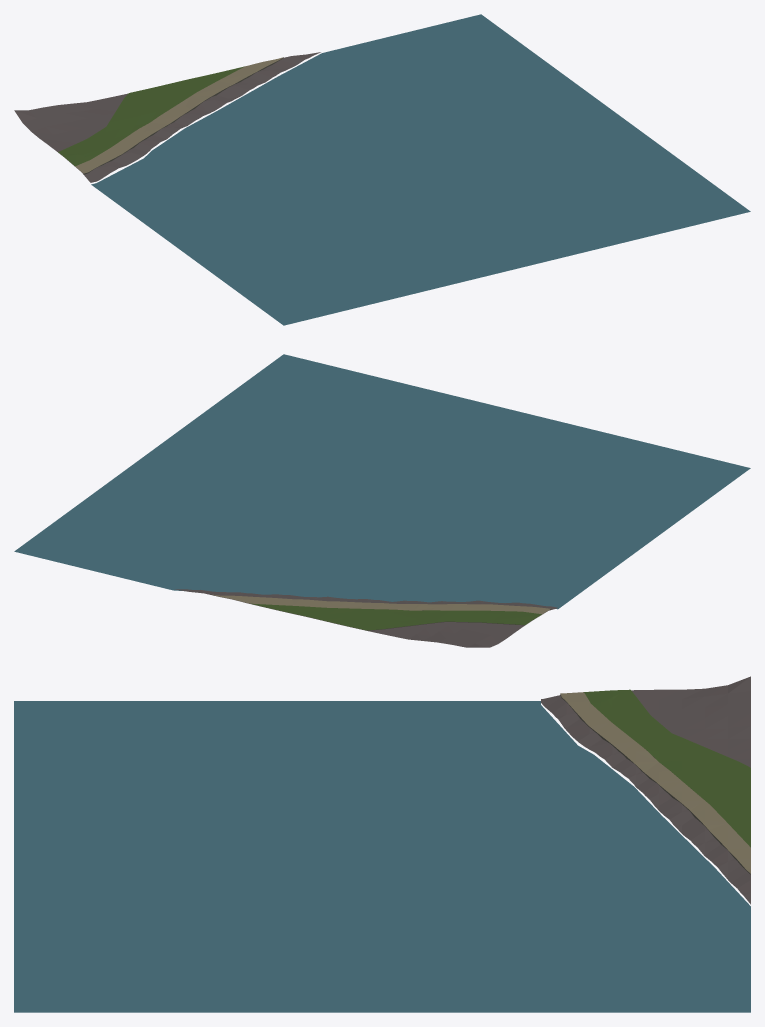
The picture shows the model from 3 angles, top to bottom: view 1: azimuth 30°, elevation 25°; view 2: azimuth 150°, elevation 25°; view 3: azimuth 270°, elevation 25°; orthographic projection. The views are drawn at different scales.
Visible parts, largest first — view 1: c_m19_m01; view 2: c_m19_m01; view 3: c_m19_m01.
Boxes of the visible parts, x1,y1,x2,y2 form: c_m19_m01: (14,14,750,325); c_m19_m01: (14,354,750,647); c_m19_m01: (14,676,750,1012).
Size of the model in its own units: 128 by 4.73 by 128.
